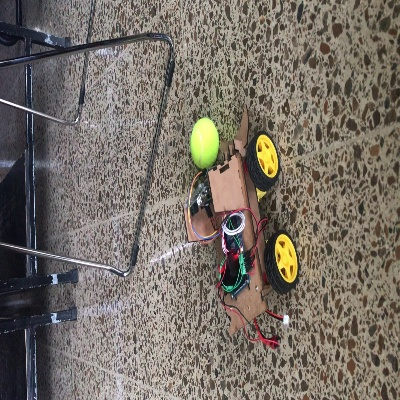Ball: (190, 117, 219, 169)
Robot: (181, 106, 299, 335)
